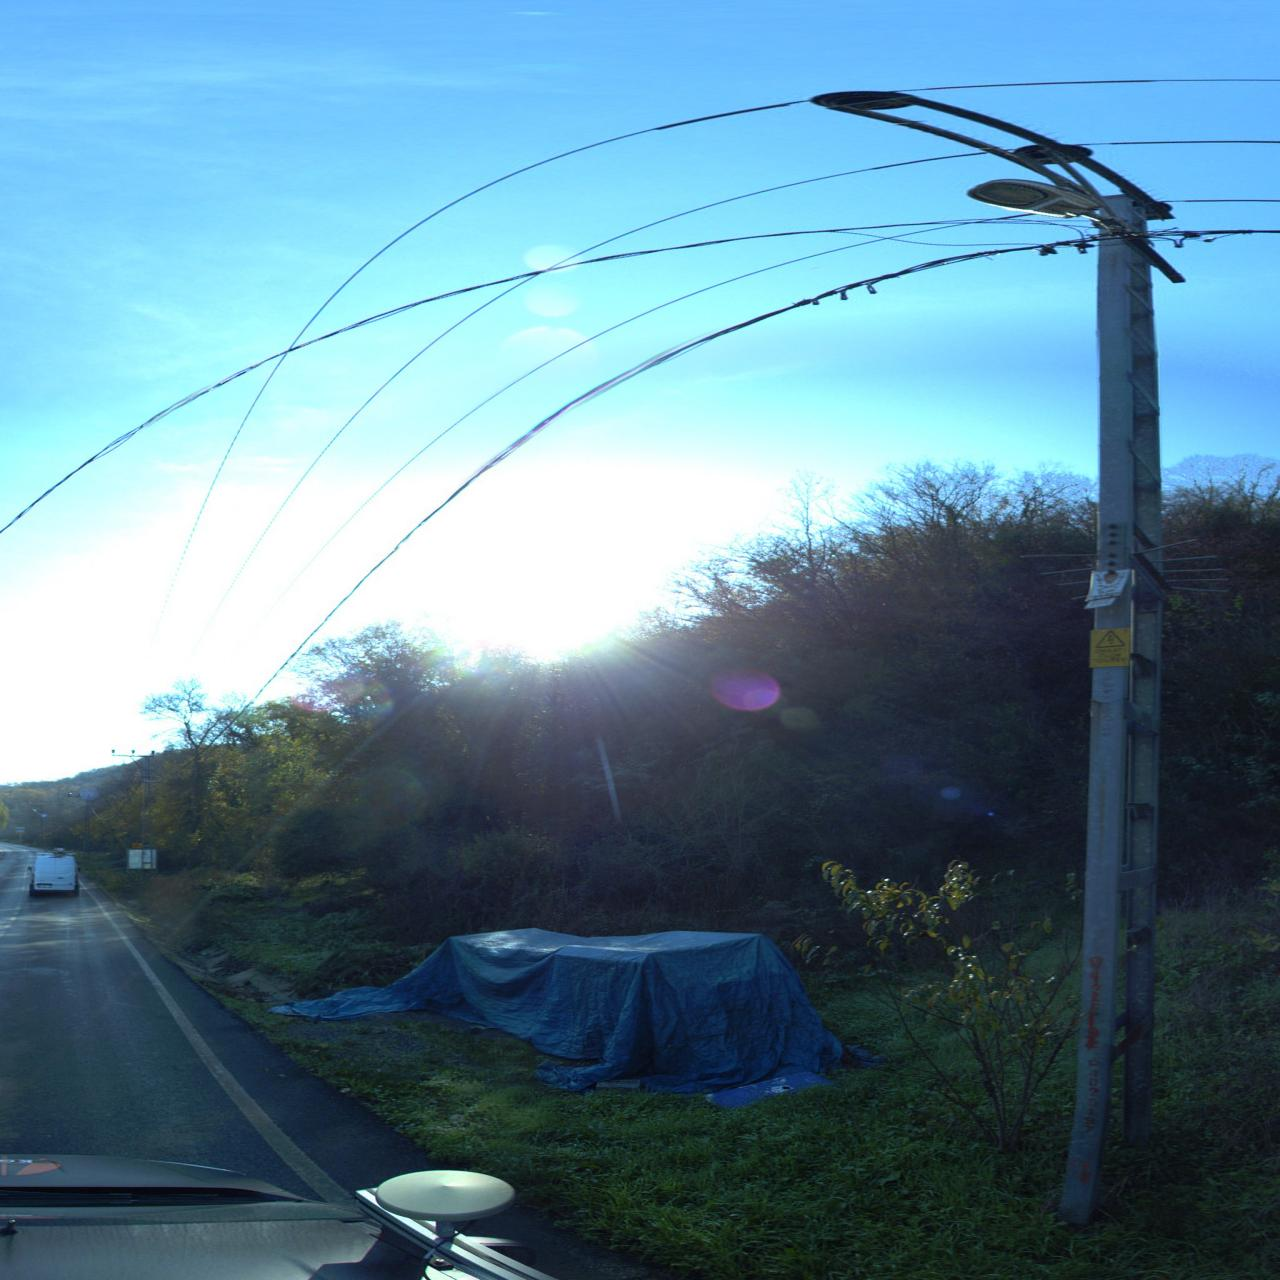Utility Pole Information Plate: (1084, 568, 1132, 608), (1087, 628, 1132, 668)
